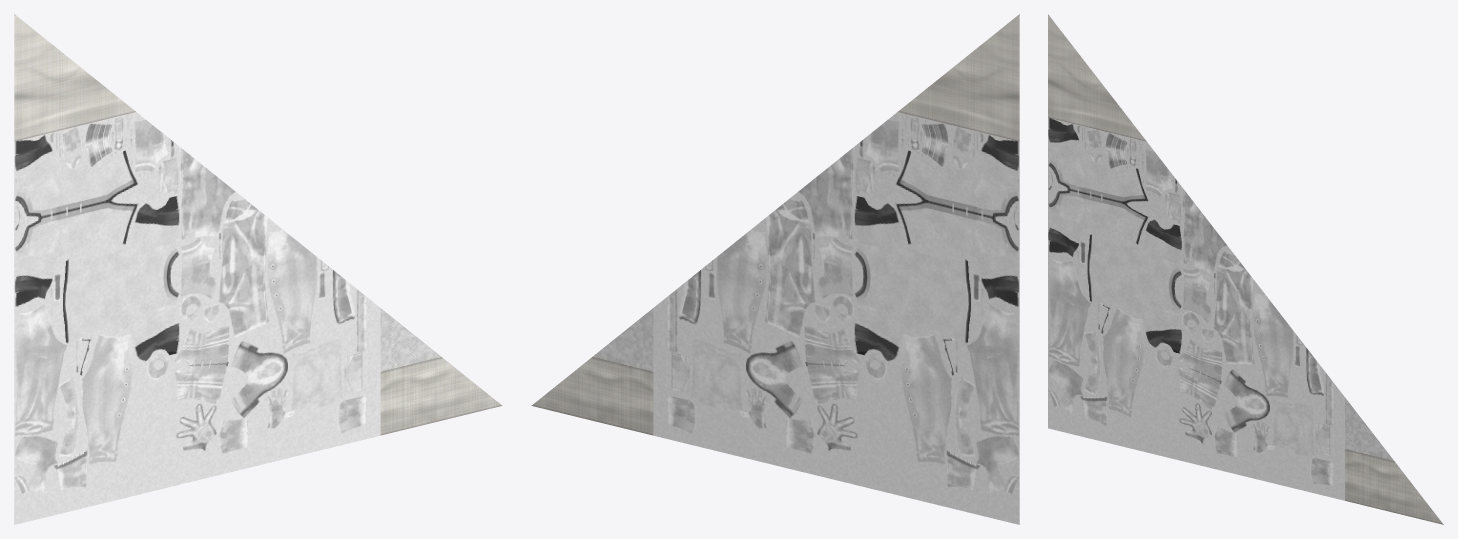
The model's file is atlas-pan.glb.
The picture shows the model from 3 angles, left to right: view 1: azimuth 30°, elevation 25°; view 2: azimuth 150°, elevation 25°; view 3: azimuth 330°, elevation 25°; orthographic projection. The views are drawn at different scales.
Visible parts, largest first — view 1: atlas-pan; view 2: atlas-pan; view 3: atlas-pan.
Boxes of the visible parts, x1,y1,x2,y2 form: atlas-pan: (14,14,502,524); atlas-pan: (531,14,1019,524); atlas-pan: (1048,14,1443,524).
Bounding box in the file's own units: 0.01 × 0.01 × 0.
1 material, 1 textured.
